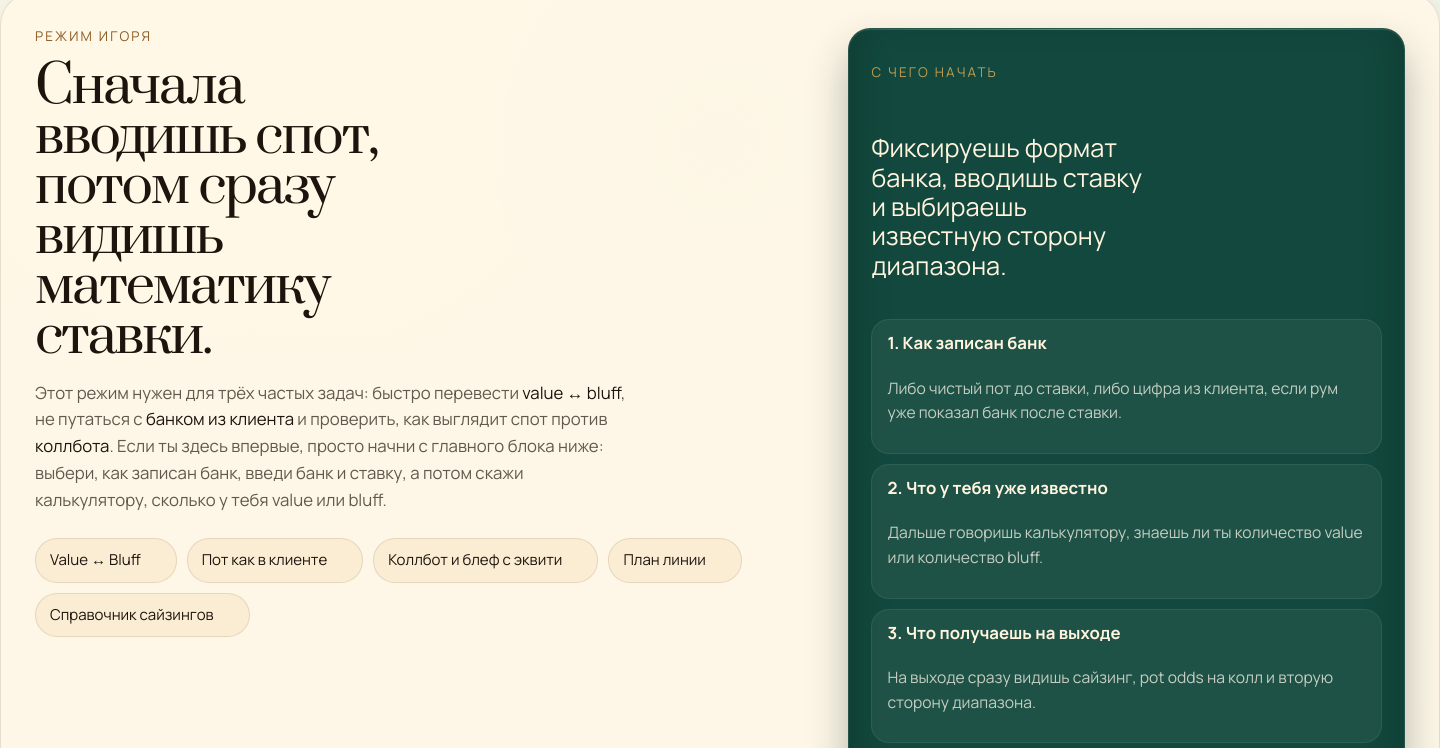
Test: IgorMode › starts with onboarding guidance and still lets hero chips switch to client-mode math
expect the text "С чего начать" is shown: met, box [872,63,998,81]
Click the button "Пот как в клиенте" at point(275, 560), box [187,538,363,582]
(page scrolled)
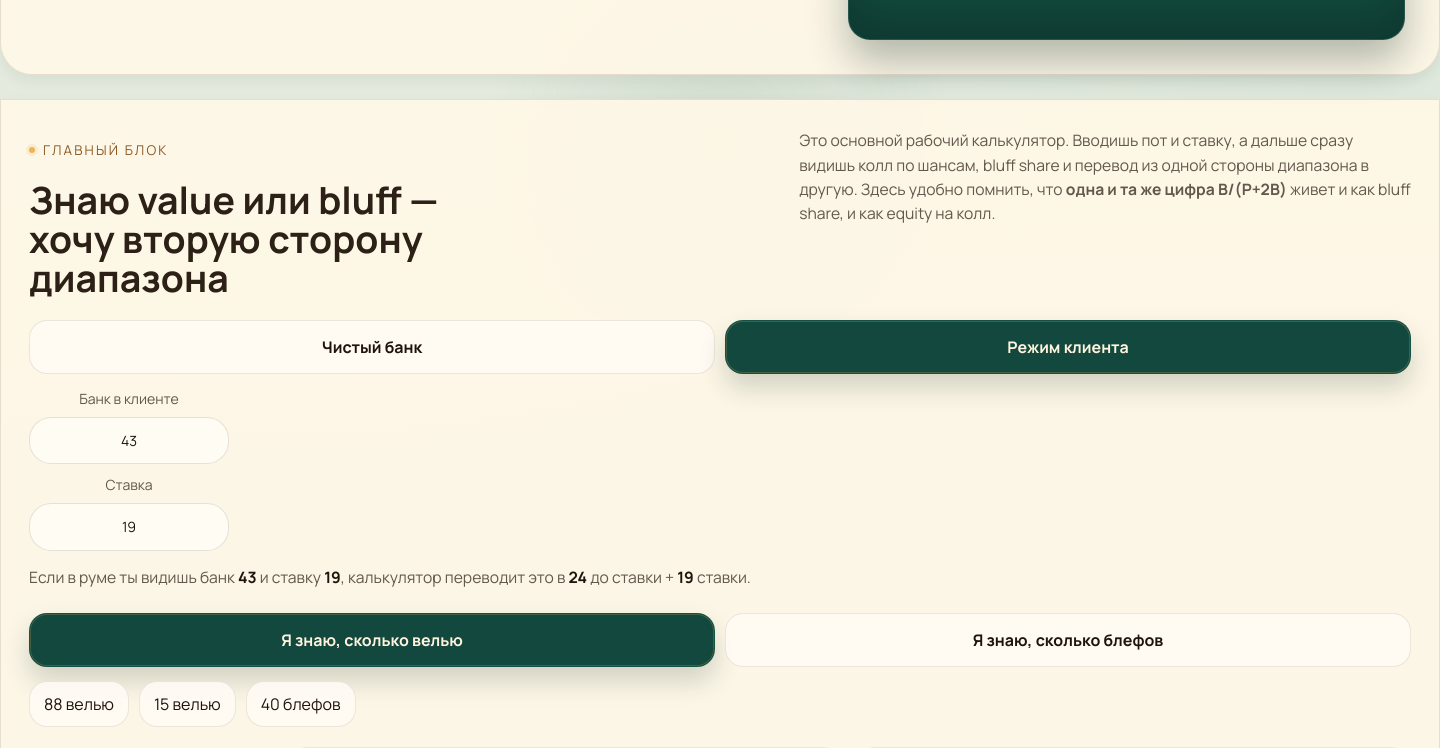
expect the text "Банк в клиенте" is shown: met, box [79,389,179,408]
